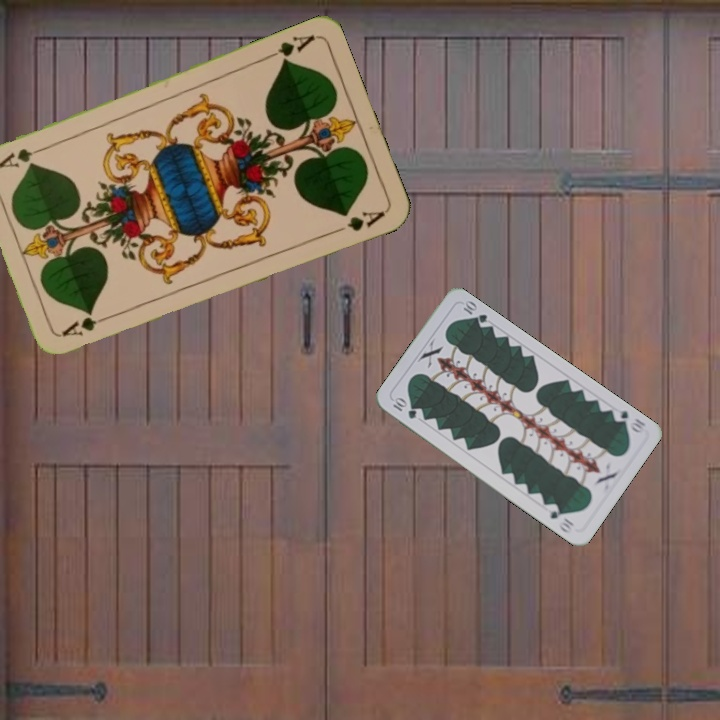G10: (609, 404, 648, 437), (389, 394, 419, 422)
GA: (261, 30, 318, 66), (58, 310, 116, 340)
